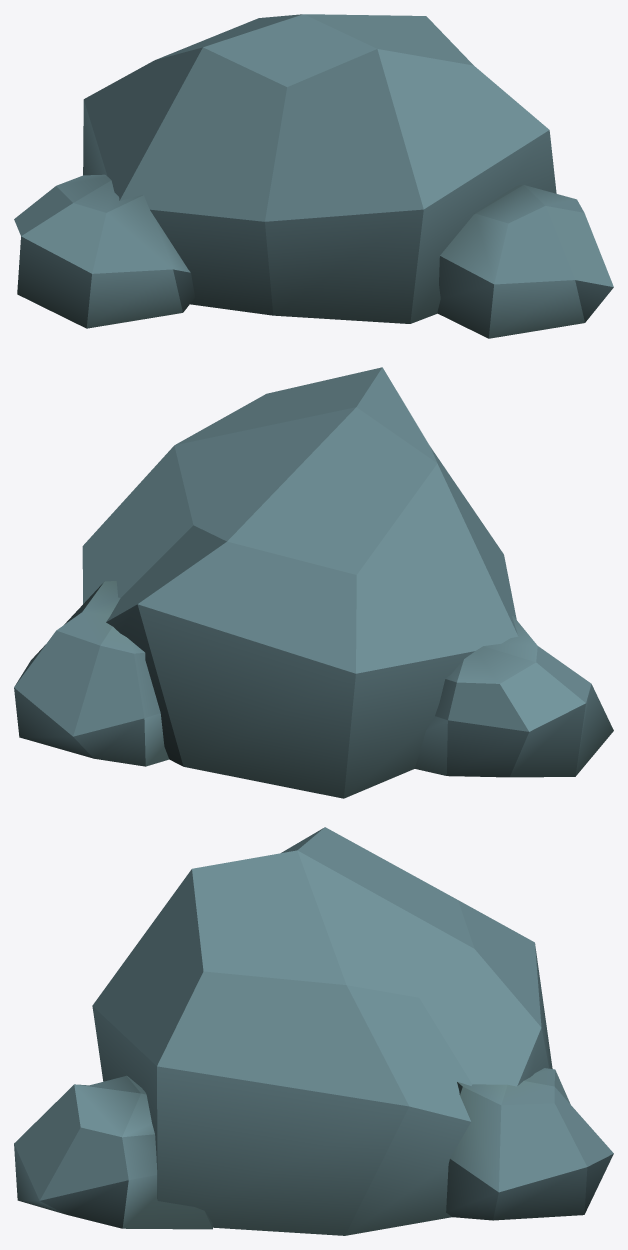
File: Rock_Mesh.FBX
The picture shows the model from 3 angles, top to bottom: view 1: azimuth 30°, elevation 25°; view 2: azimuth 150°, elevation 25°; view 3: azimuth 270°, elevation 25°; orthographic projection. The views are drawn at different scales.
Parts seen in each view (by area): view 1: Rock_Mesh; view 2: Rock_Mesh; view 3: Rock_Mesh.
Boxes of the visible parts, left/top/right/bottom form: Rock_Mesh: left=14, top=14, right=613, bottom=338; Rock_Mesh: left=14, top=367, right=613, bottom=798; Rock_Mesh: left=14, top=827, right=613, bottom=1235.
Bounding box in the file's own units: 104 × 53.61 × 108.
